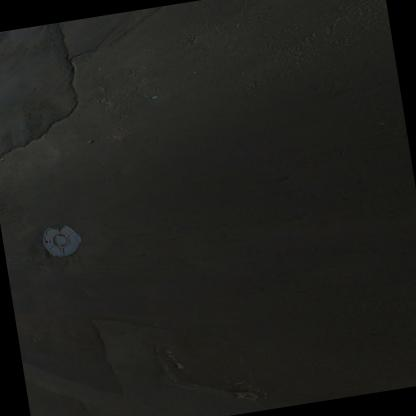manholes: (29, 213, 99, 264)
